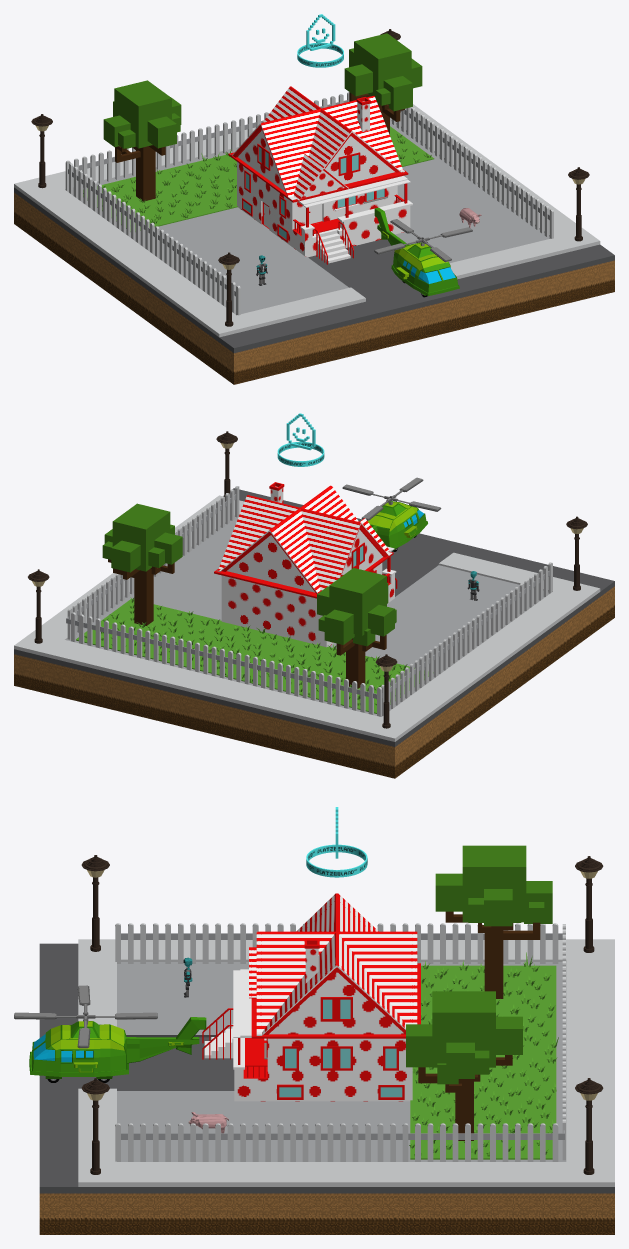
3 renders of one model, top to bottom at view 1: azimuth 30°, elevation 25°; view 2: azimuth 150°, elevation 25°; view 3: azimuth 270°, elevation 25°, orthographic. The views are drawn at different scales.
Visible parts, largest first — view 1: Cube.004, Cube.196, VEHICLES_HELICOPTER, TYPE_PREMIUM; view 2: Cube.004, Cube.196, VEHICLES_HELICOPTER, TYPE_PREMIUM; view 3: Cube.004, Cube.196, VEHICLES_HELICOPTER, TYPE_PREMIUM.
Part boxes in pixels (left/top/right/bottom): Cube.004: left=14, top=29, right=614, bottom=384; Cube.196: left=228, top=86, right=412, bottom=264; VEHICLES_HELICOPTER: left=374, top=207, right=472, bottom=297; TYPE_PREMIUM: left=297, top=14, right=343, bottom=67; Cube.004: left=14, top=431, right=614, bottom=778; Cube.196: left=214, top=482, right=397, bottom=647; VEHICLES_HELICOPTER: left=342, top=477, right=441, bottom=551; TYPE_PREMIUM: left=277, top=413, right=324, bottom=466; Cube.004: left=39, top=845, right=614, bottom=1234; Cube.196: left=202, top=893, right=420, bottom=1101; VEHICLES_HELICOPTER: left=14, top=985, right=206, bottom=1082; TYPE_PREMIUM: left=306, top=807, right=367, bottom=877.
Size of the model in its own units: 4000 by 2417 by 4179.
35 materials, 6 textured.
